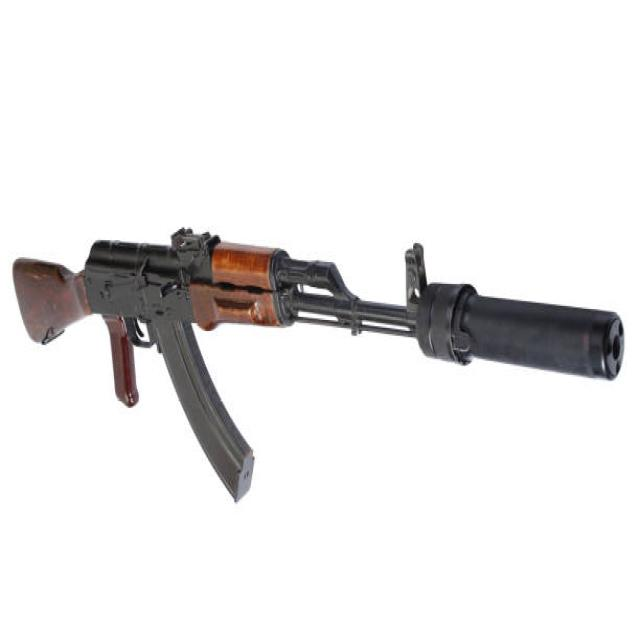rifle: (5, 219, 630, 503)
